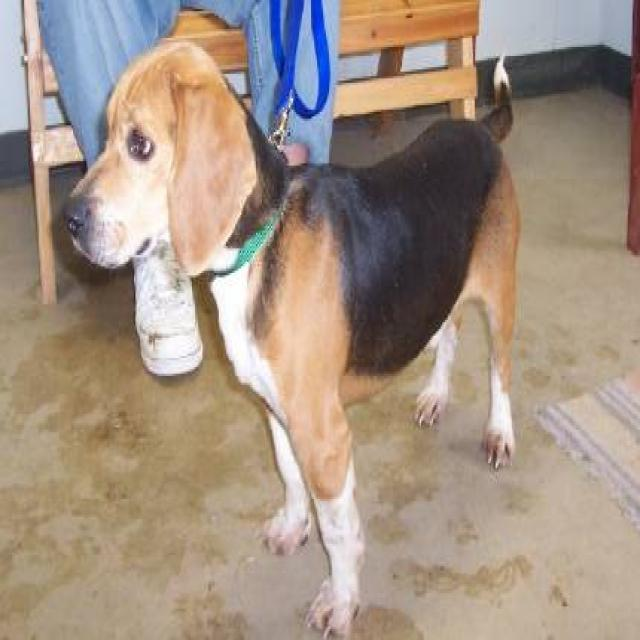Dog: (61, 38, 253, 280)
